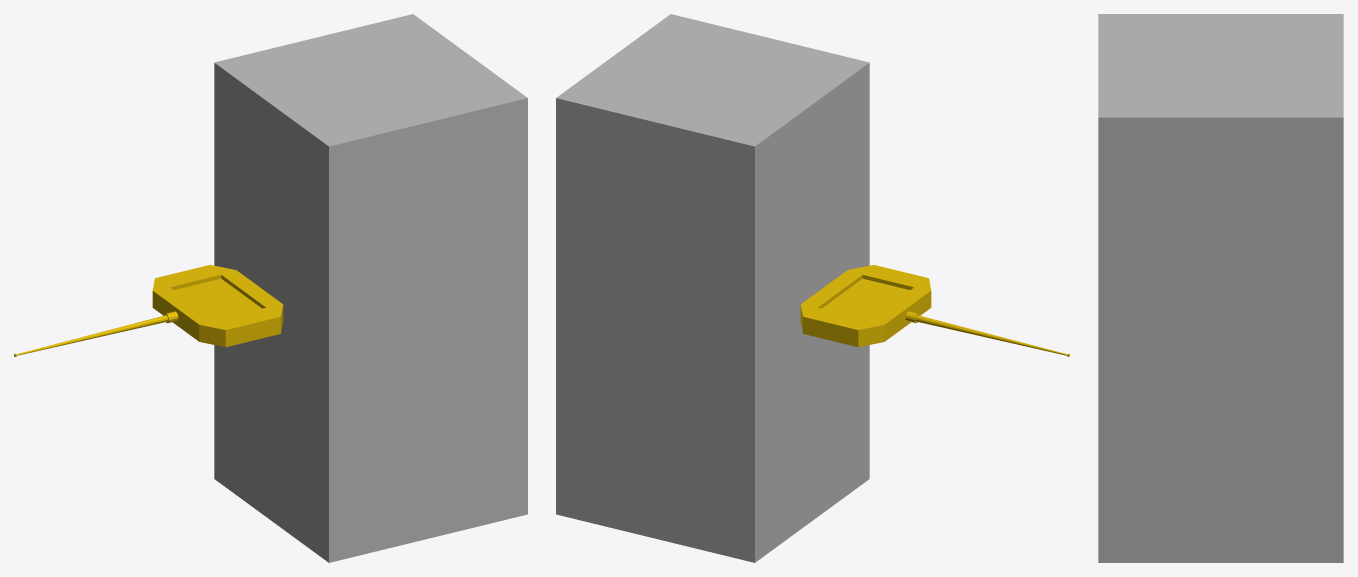
Rendered from Tracker_MOD_DEMO.fbx.
3 renders of one model, left to right at view 1: azimuth 30°, elevation 25°; view 2: azimuth 150°, elevation 25°; view 3: azimuth 270°, elevation 25°, orthographic. The views are drawn at different scales.
Visible parts, largest first — view 1: playerMetric, tracker; view 2: playerMetric, tracker; view 3: playerMetric.
Part boxes in pixels (x1,y1,x2,y2): playerMetric: [214, 14, 527, 562]; tracker: [14, 265, 283, 356]; playerMetric: [556, 14, 869, 562]; tracker: [800, 265, 1069, 356]; playerMetric: [1098, 14, 1343, 562].
Size of the model in its own units: 229 by 200 by 100.
